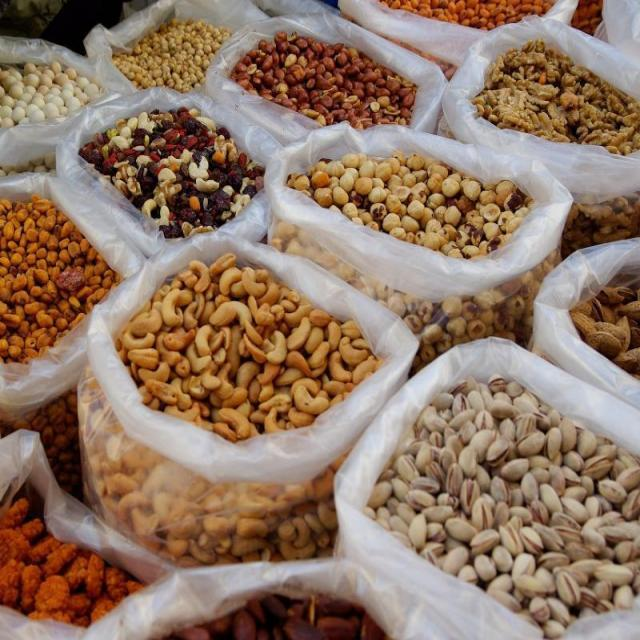Frutta secca: (379, 392, 640, 622), (126, 261, 344, 433), (308, 151, 522, 249), (93, 108, 243, 222), (491, 50, 640, 150), (3, 196, 99, 348), (246, 37, 408, 127), (130, 26, 220, 82)
